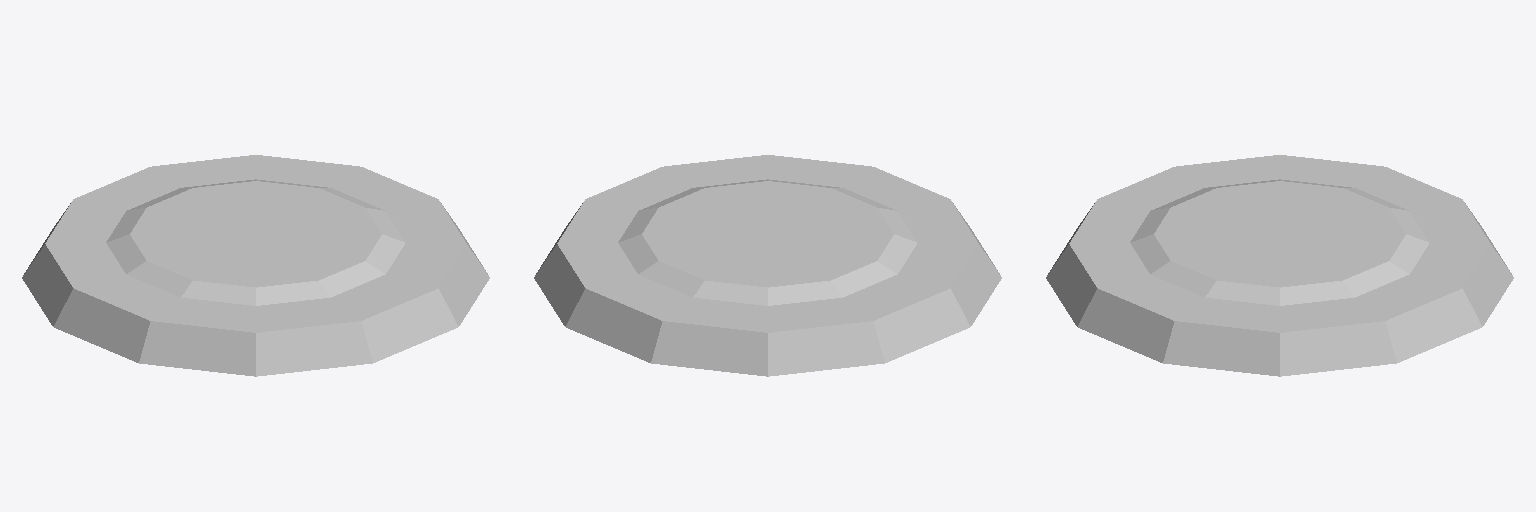
File: antline_handle.obj
The picture shows the model from 3 angles: view 1: azimuth 30°, elevation 25°; view 2: azimuth 150°, elevation 25°; view 3: azimuth 270°, elevation 25°; orthographic projection.
Visible parts, largest first — view 1: Circle; view 2: Circle; view 3: Circle.
Part boxes in pixels (bbox=[...]): Circle: bbox=[22, 155, 489, 376]; Circle: bbox=[534, 155, 1001, 376]; Circle: bbox=[1046, 155, 1513, 376].
Size of the model in its own units: 0.25 by 0.0256 by 0.25.